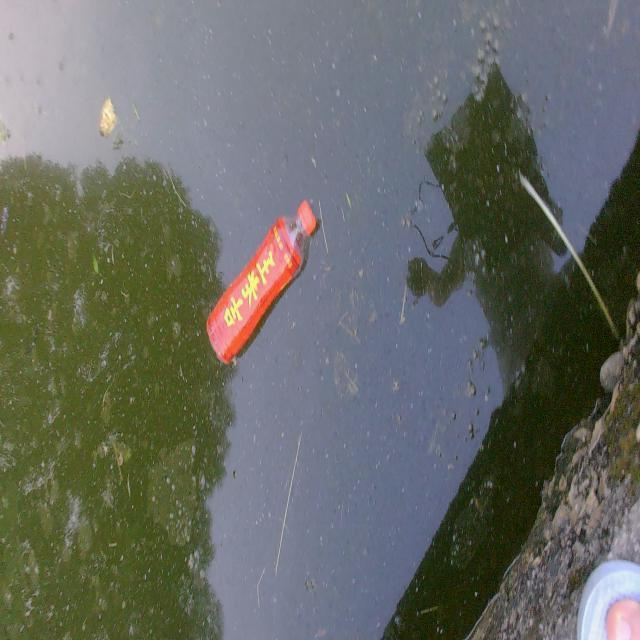bottle: (192, 188, 328, 374)
